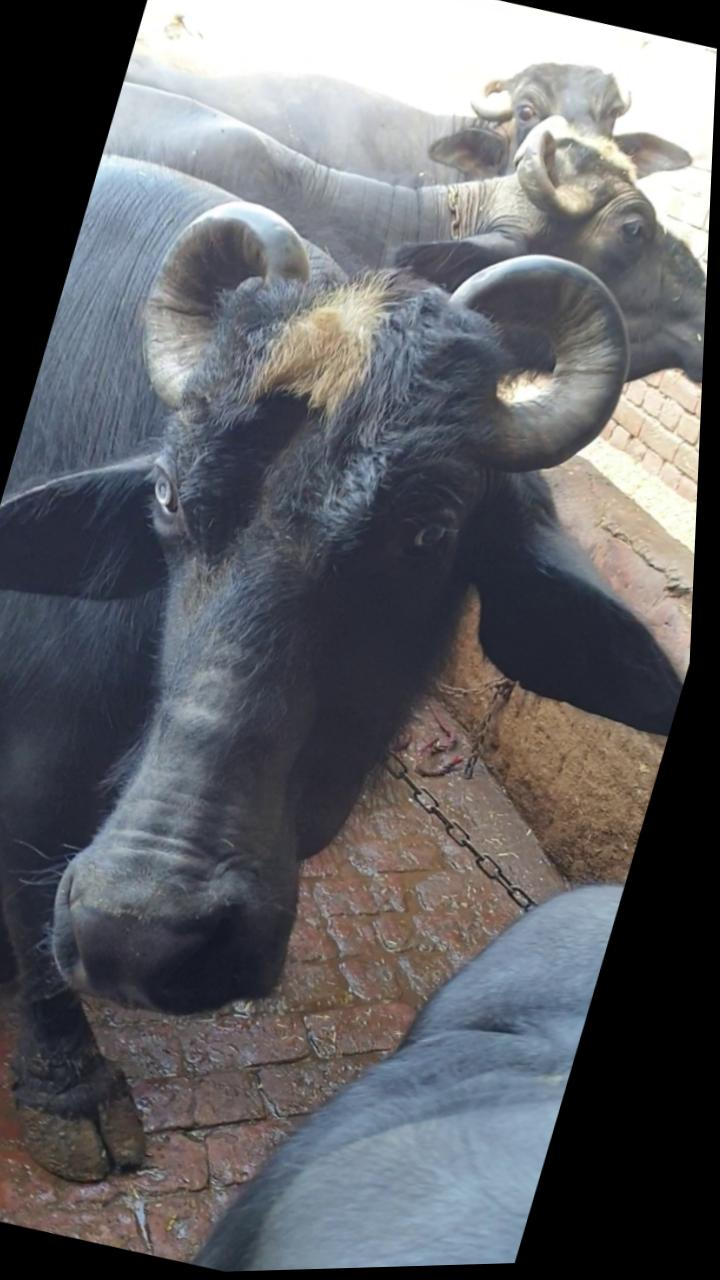cows: (0, 214, 543, 1069), (521, 120, 715, 467)
